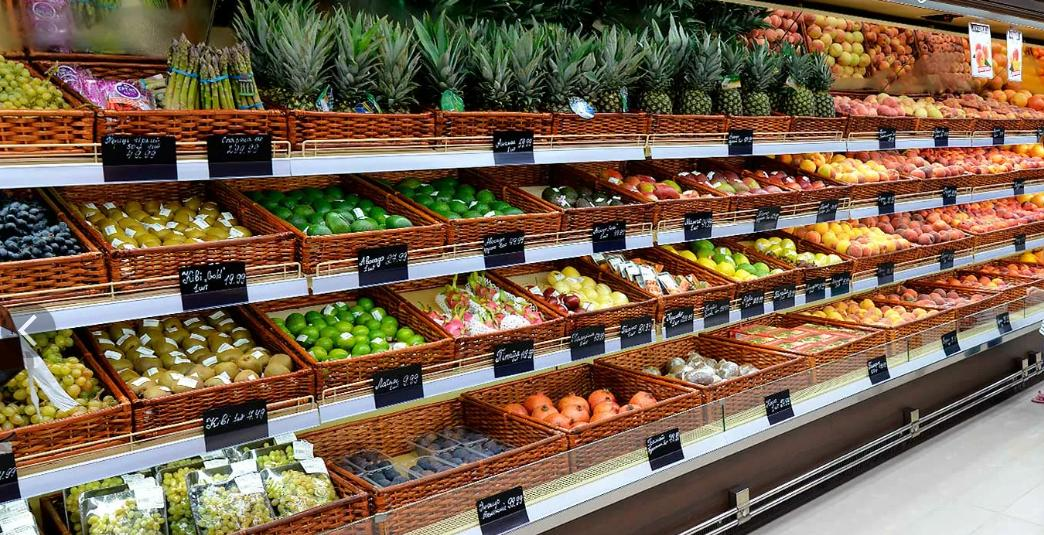grapes: (71, 447, 334, 535), (1, 328, 120, 440), (0, 186, 83, 273), (0, 54, 67, 120)
lemon: (667, 248, 747, 282)
pineapple: (256, 51, 421, 123), (430, 42, 548, 122), (547, 46, 648, 116), (638, 54, 719, 125), (779, 55, 835, 133), (717, 63, 778, 134)
pomegranate: (502, 390, 662, 434)
red apple: (760, 164, 830, 192)
